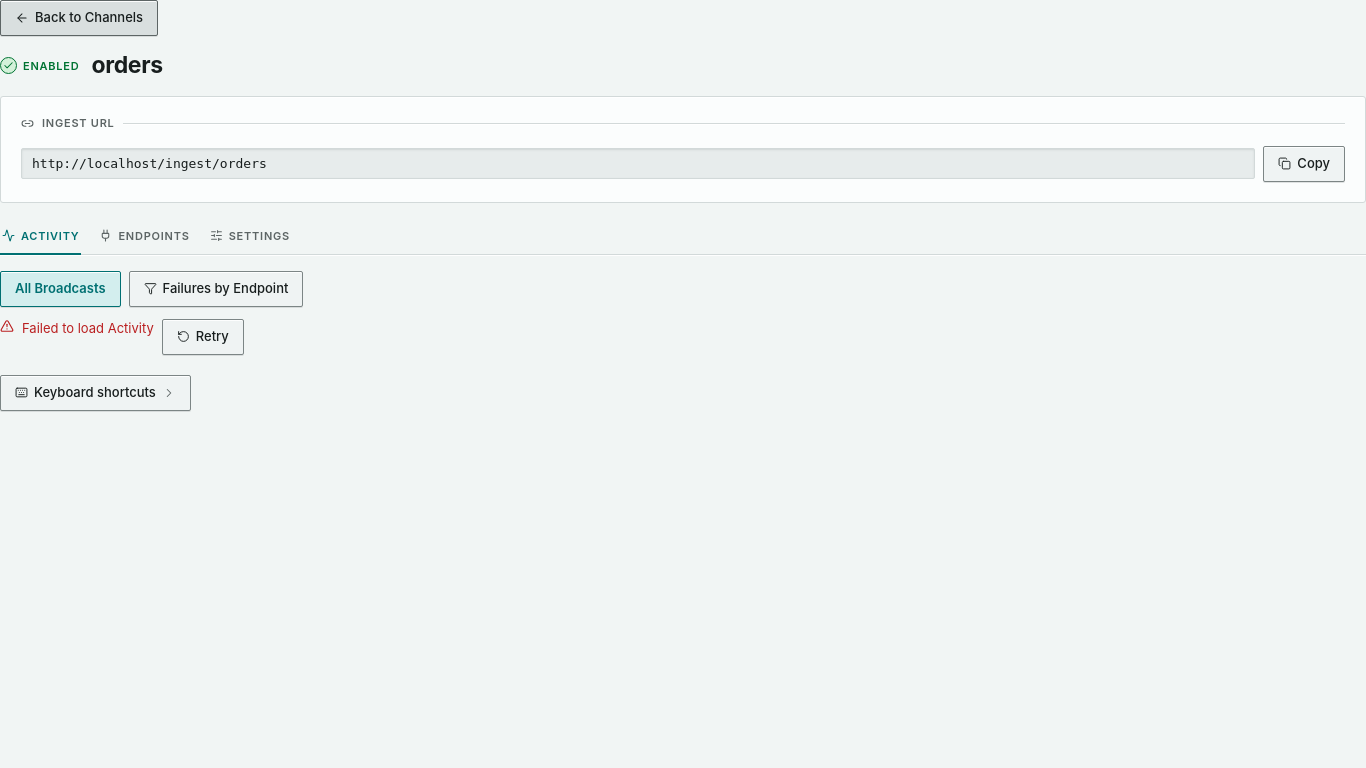
Scenario: Channel Detail — Endpoints tab › reports health, not enabled-ness, on the leading lamp of a 100%-failing enabled Endpoint
What coordinates should you click on to do the following:
click the link "Endpoints"
I would click on:
 (144, 236)
Its box is 99,229 -> 190,243.
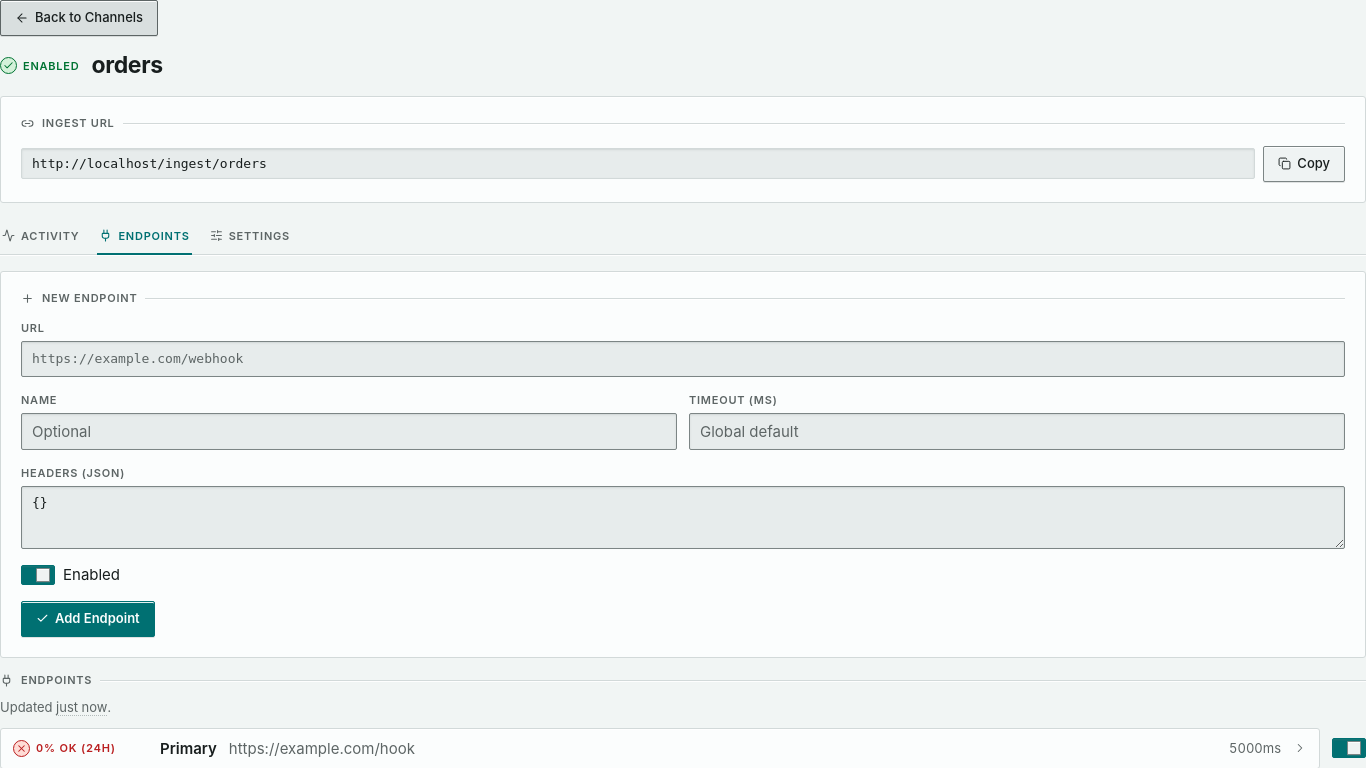
Check: the 2nd checkbox is checked, box 1332,738 -> 1365,758
